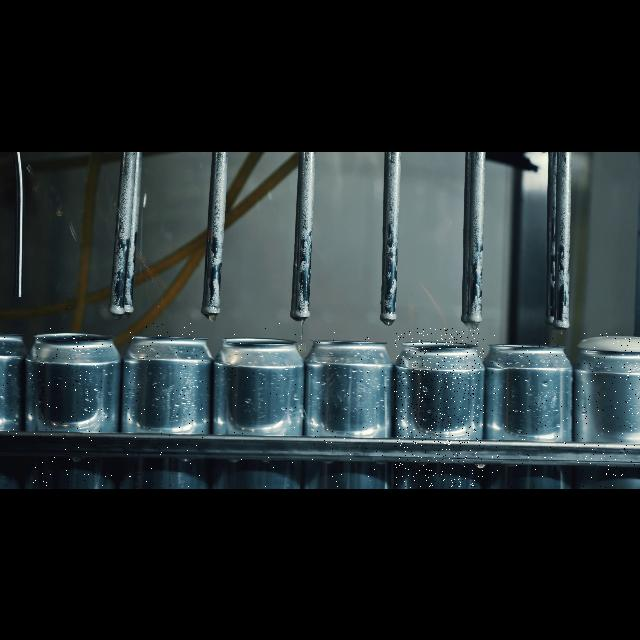empty: (394, 328, 484, 488), (216, 322, 302, 488), (124, 322, 208, 488), (30, 328, 114, 488), (309, 332, 385, 488), (492, 332, 566, 488), (2, 324, 24, 488)
full: (576, 332, 640, 488)
